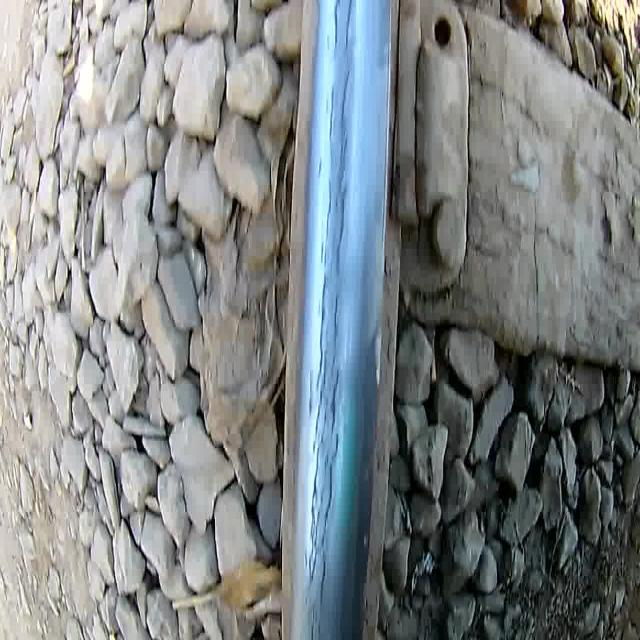Cracks: (301, 0, 358, 640)
